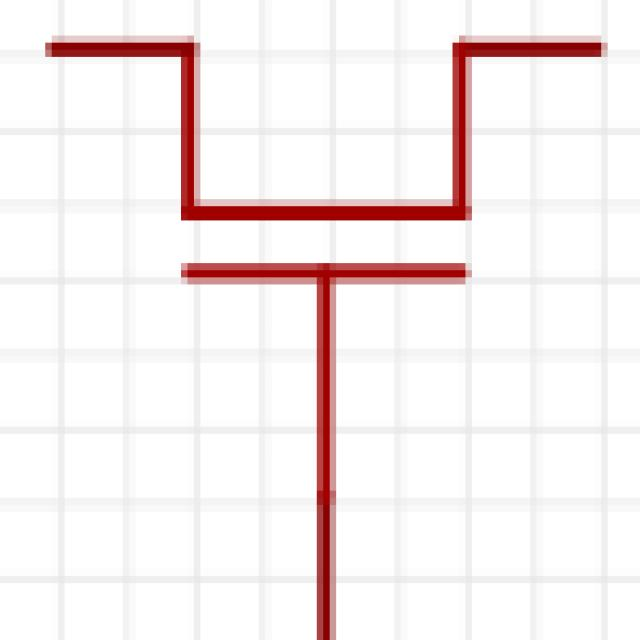nmos: (26, 10, 596, 606)
